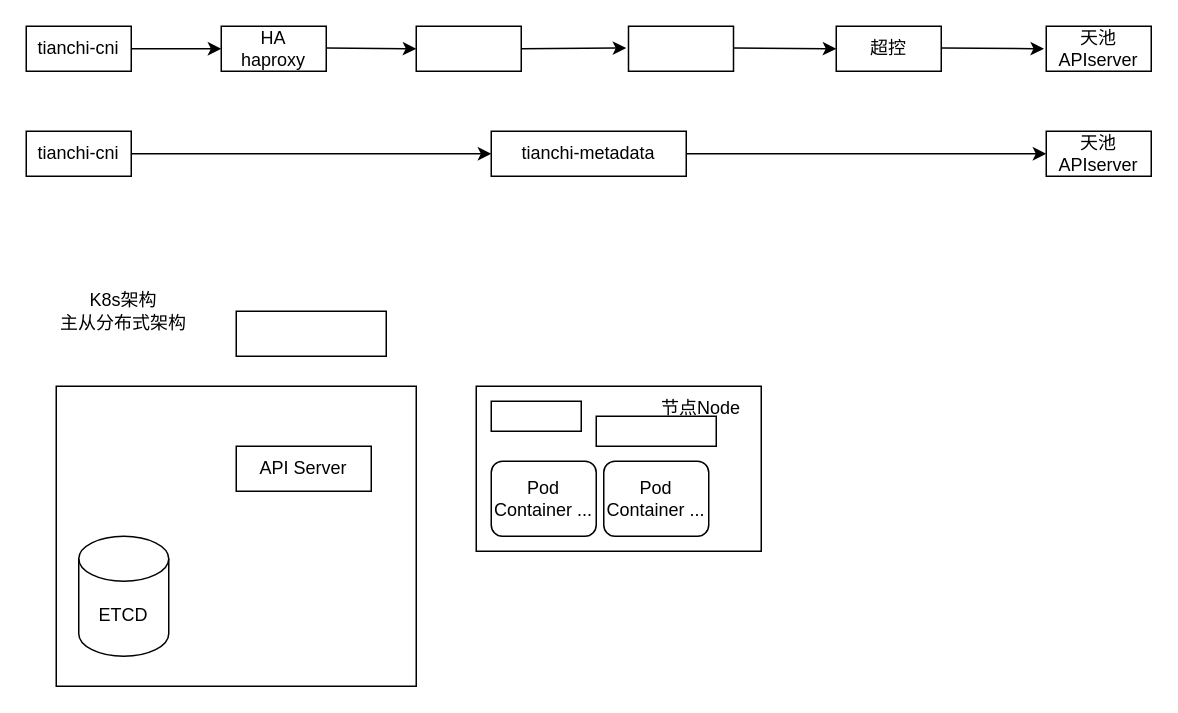
Image size: 1178x713. Some labels were removed from this diagram. Here are the shapes that lost their labels. From the top down, the box of each, then its label:
(415, 25, 521, 71): op网关
(627, 25, 734, 71): 网络控制台
(235, 310, 386, 356): kubectl
(490, 400, 581, 431): kubelet
(595, 415, 716, 446): kube-proxy
(55, 385, 416, 686): 主节点 Master
